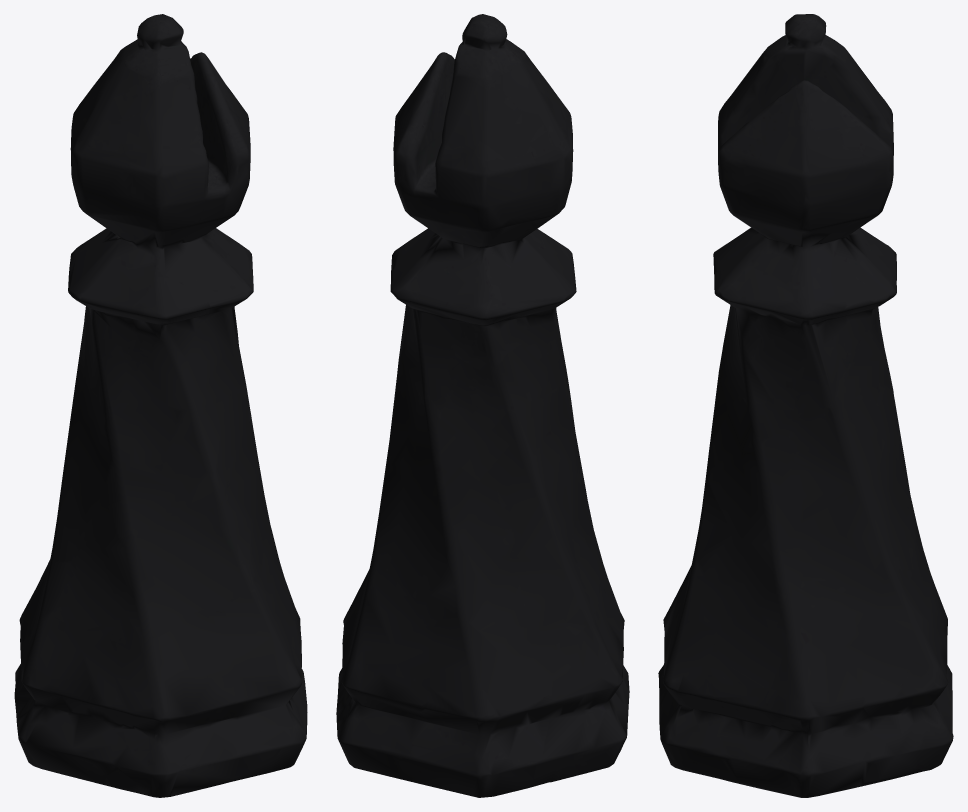
File: bishop-black.glb
The picture shows the model from 3 angles, left to right: view 1: azimuth 30°, elevation 25°; view 2: azimuth 150°, elevation 25°; view 3: azimuth 270°, elevation 25°; orthographic projection.
Size of the model in its own units: 0.5347 by 1.3 by 0.4833.
1 material, 1 textured.
